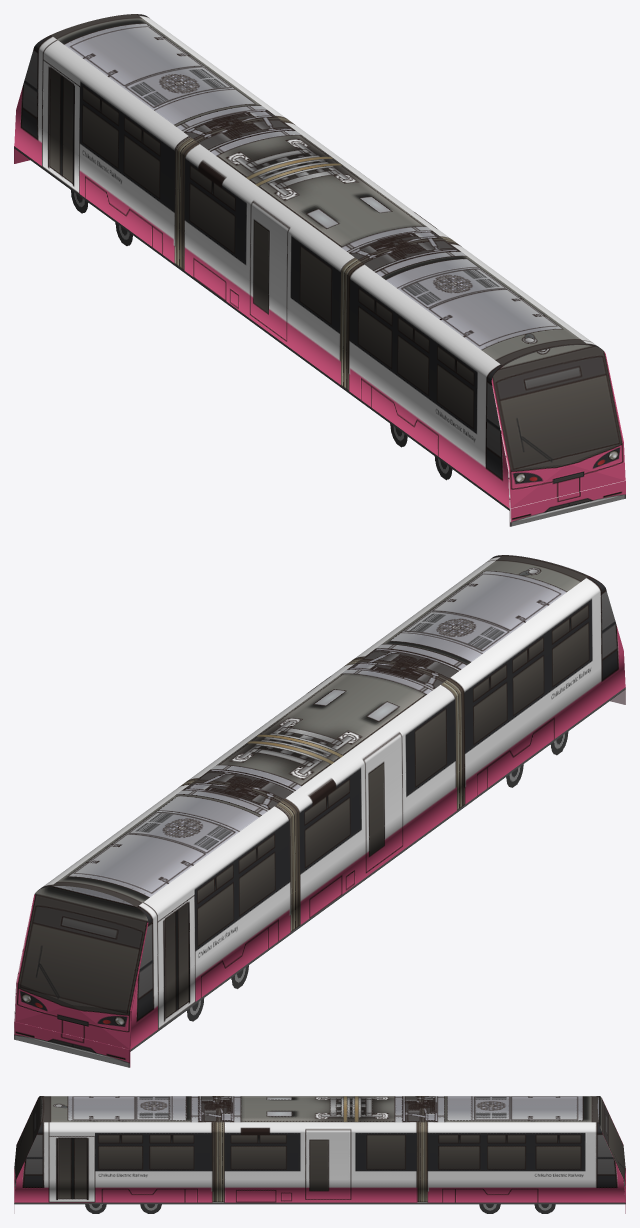
File: car1.glb
3 views of the same model, one above another, from view 1: azimuth 30°, elevation 25°; view 2: azimuth 150°, elevation 25°; view 3: azimuth 270°, elevation 25° (orthographic). The views are drawn at different scales.
Visible parts, largest first — view 1: tikuden-5000-car1; view 2: tikuden-5000-car1; view 3: tikuden-5000-car1.
Part boxes in pixels (bbox=[...]): tikuden-5000-car1: bbox=[14, 14, 625, 526]; tikuden-5000-car1: bbox=[14, 555, 625, 1067]; tikuden-5000-car1: bbox=[14, 1096, 625, 1213].
Bounding box in the file's own units: 2.38 × 2.87 × 17.63.
Materials: 9 (8 with a texture image).
